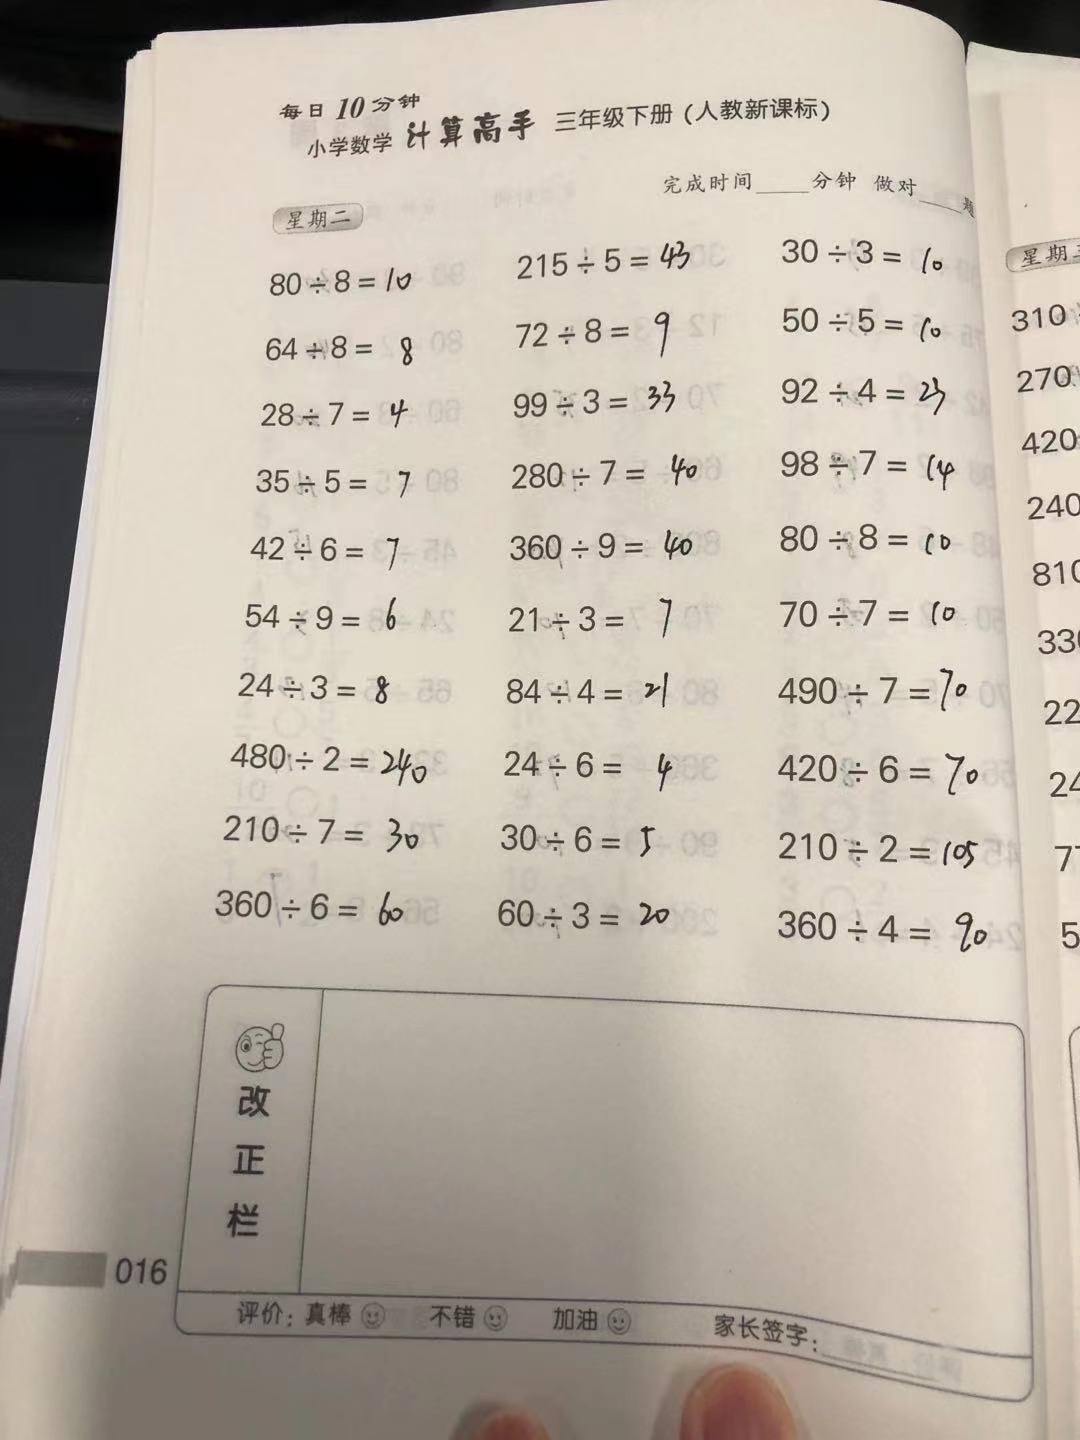equation: (770, 903, 1007, 975), (756, 819, 992, 886), (761, 742, 1001, 807), (487, 805, 697, 875), (214, 802, 441, 865), (504, 442, 746, 501), (490, 736, 712, 799), (223, 739, 452, 801), (493, 587, 699, 653), (206, 876, 425, 938), (501, 516, 716, 576), (768, 664, 994, 719), (776, 228, 967, 290), (770, 442, 984, 498), (511, 304, 701, 364), (767, 300, 967, 356), (225, 595, 434, 647), (237, 461, 454, 510), (767, 373, 981, 422), (773, 513, 974, 564), (501, 373, 699, 425), (241, 327, 434, 379), (481, 890, 674, 941), (493, 670, 694, 719), (233, 664, 414, 718), (768, 596, 982, 641), (258, 393, 436, 444), (251, 261, 441, 307), (236, 533, 427, 576), (505, 242, 711, 278)
